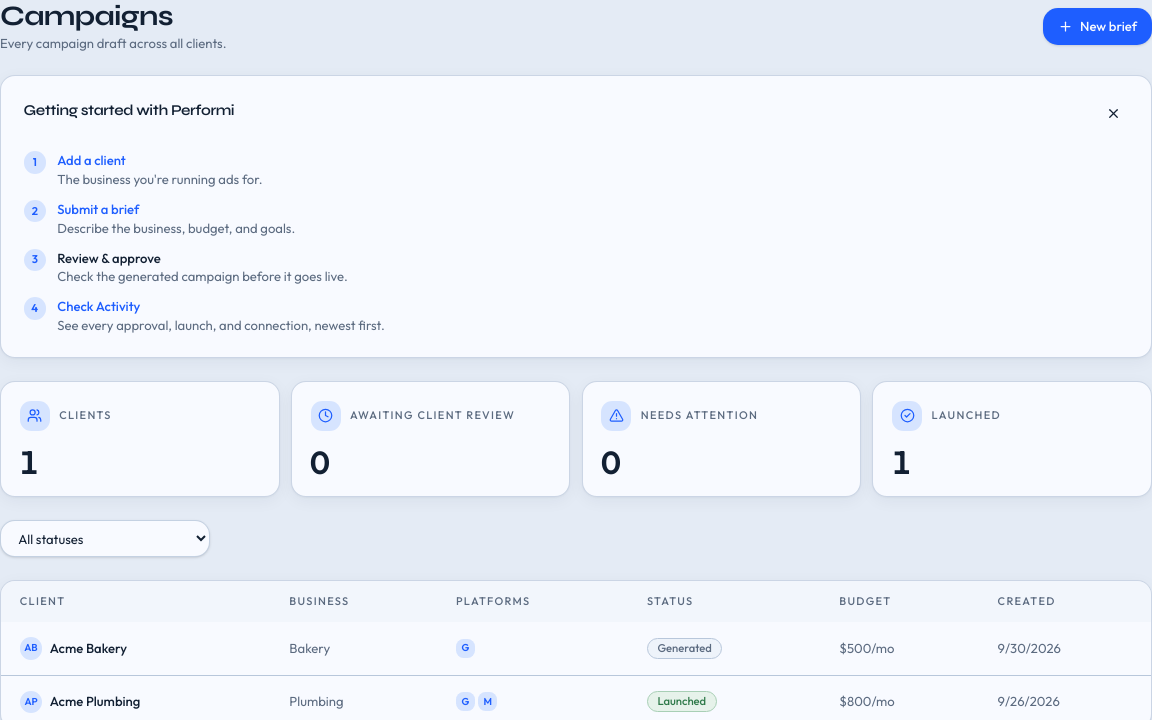
Test: CampaignsPage › renders all drafts and filters by status
Check: the text "Acme Bakery" is shown, box [50,640,127,656]
Check: the text "Acme Plumbing" is shown, box [50,693,140,709]
Select "Launched" in the dropdown named "Filter by status" at (105, 539), box [0,520,210,557]
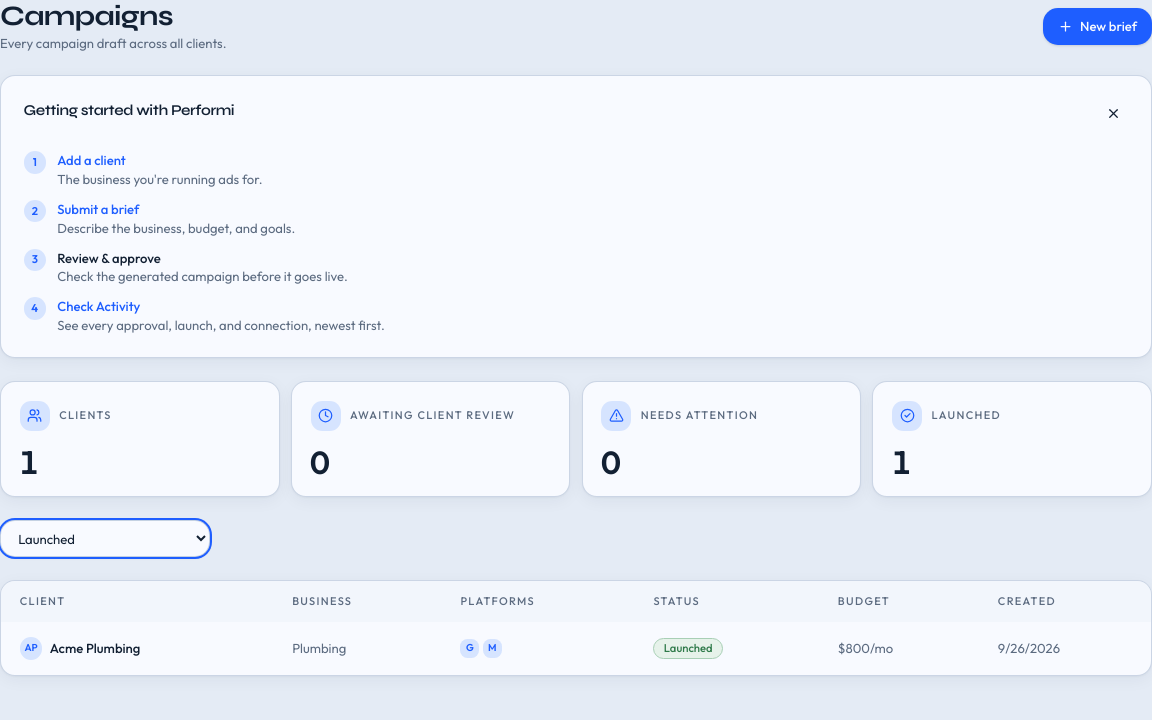
Check: the text "Acme Plumbing" is shown, box [50,640,140,656]
Check: the text "Acme Bakery" is gone
